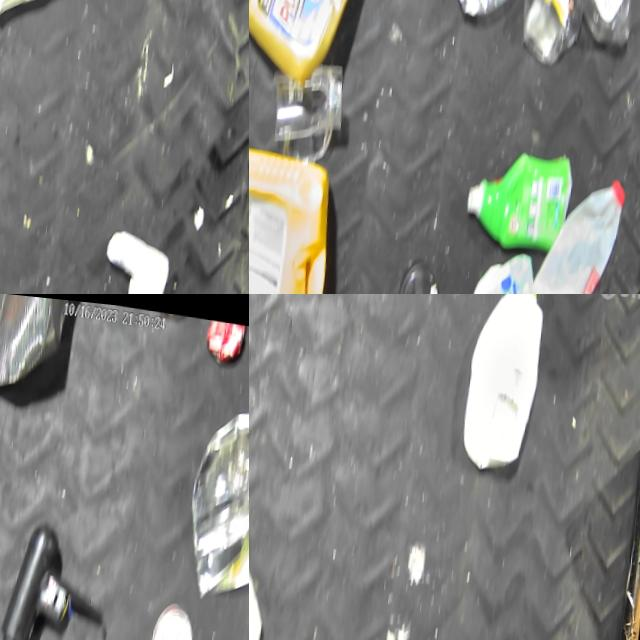can: (181, 383, 249, 602), (0, 294, 71, 401), (150, 592, 201, 640), (202, 310, 248, 359)
milk_jug: (460, 294, 552, 466), (534, 154, 633, 294), (475, 234, 553, 294)
non_white_jug: (249, 136, 346, 294), (468, 129, 583, 247), (249, 0, 368, 83)
